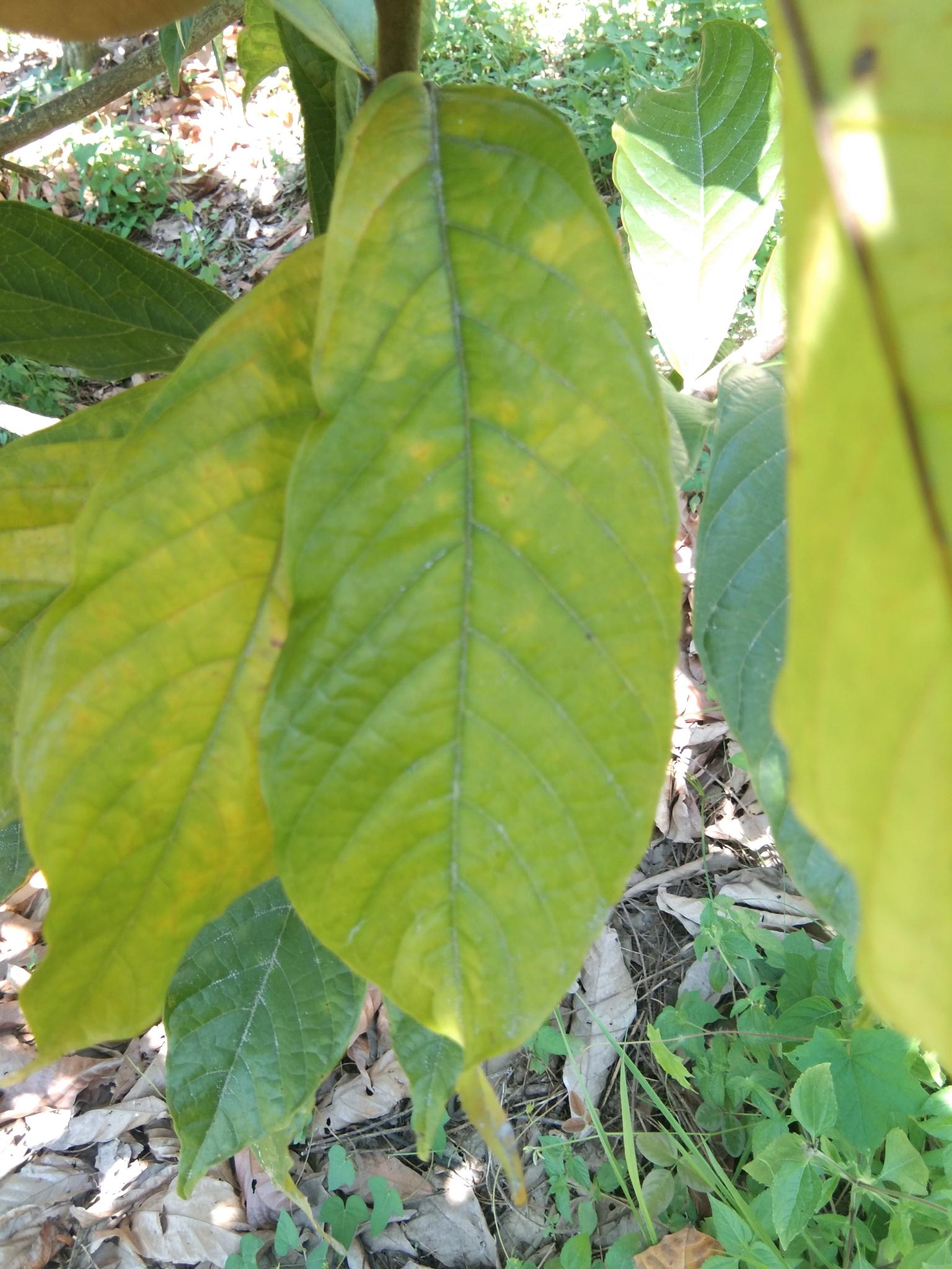Fosforo: (259, 73, 686, 1087), (15, 244, 323, 1056)
